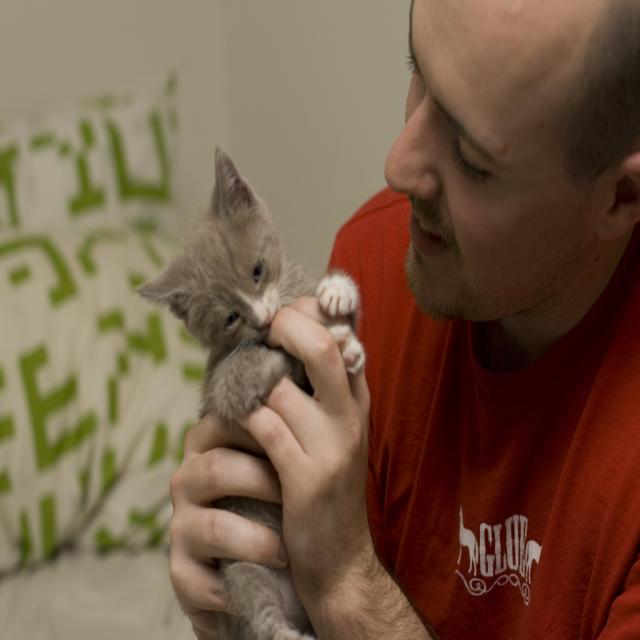Cat: (133, 143, 365, 638)
